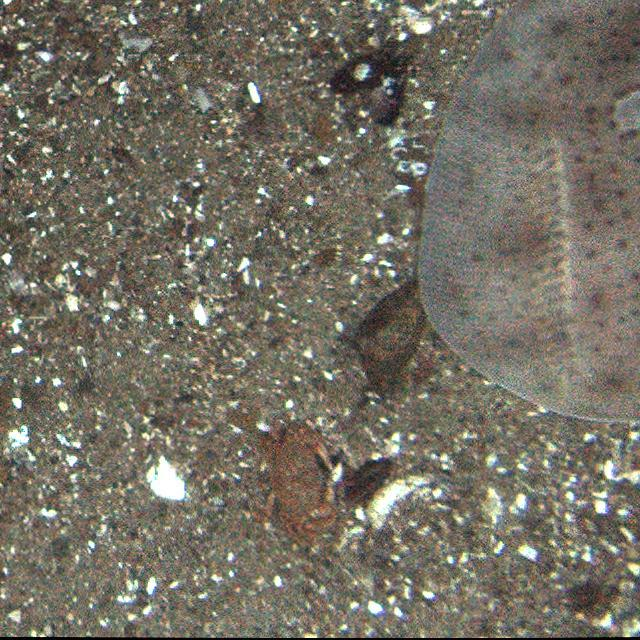crab: (261, 411, 338, 541)
